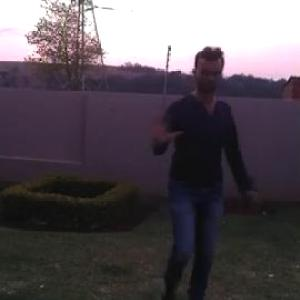follow_hand: (146, 109, 186, 145)
